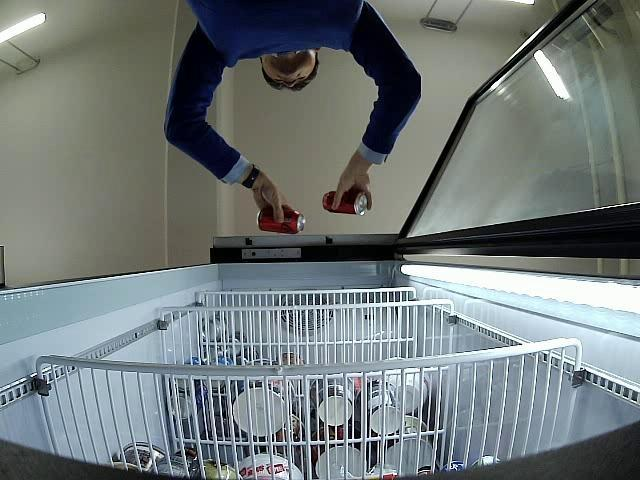11_cocaColaZero: (258, 206, 306, 234), (323, 190, 368, 216)
